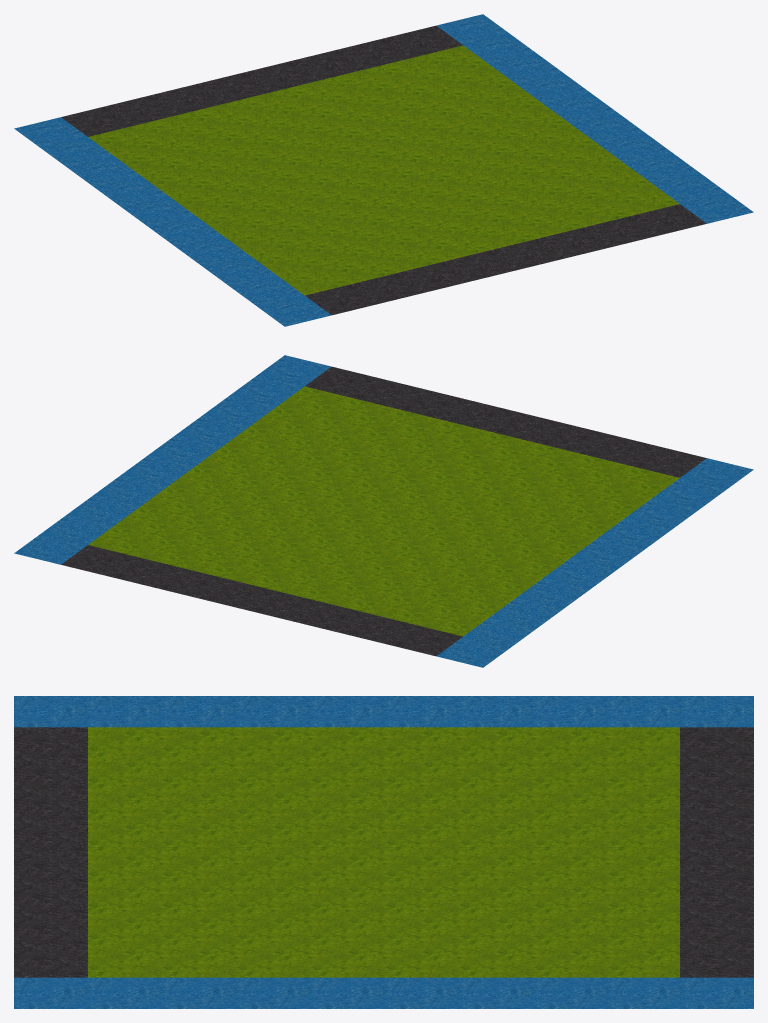
Rendered from cyberzoo_floor.dae.
3 renders of one model, top to bottom at view 1: azimuth 30°, elevation 25°; view 2: azimuth 150°, elevation 25°; view 3: azimuth 270°, elevation 25°, orthographic. The views are drawn at different scales.
Visible parts, largest first — view 1: instance_0 (×5); view 2: instance_0 (×5); view 3: instance_0 (×5).
Boxes of the visible parts, x1=… form: instance_0 (×5): x1=14, y1=14, x2=753, y2=326; instance_0 (×5): x1=14, y1=355, x2=753, y2=667; instance_0 (×5): x1=14, y1=696, x2=753, y2=1008.
Size of the model in its own units: 394 by 394 by 0.
Materials: 3 (3 with a texture image).
